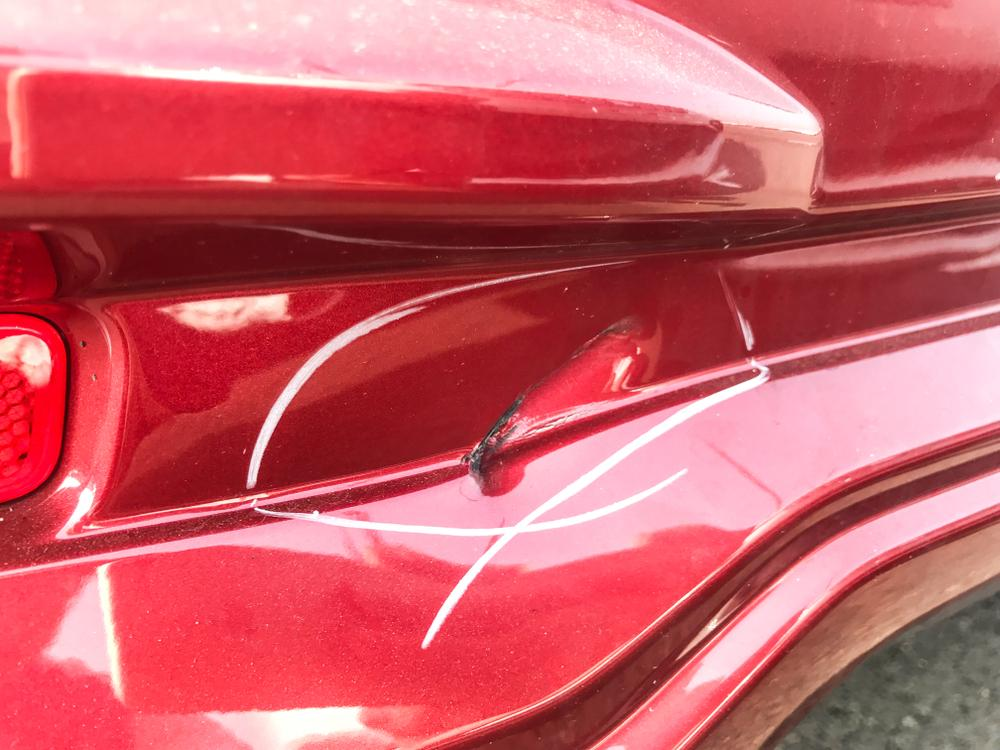dent: (457, 304, 645, 513)
